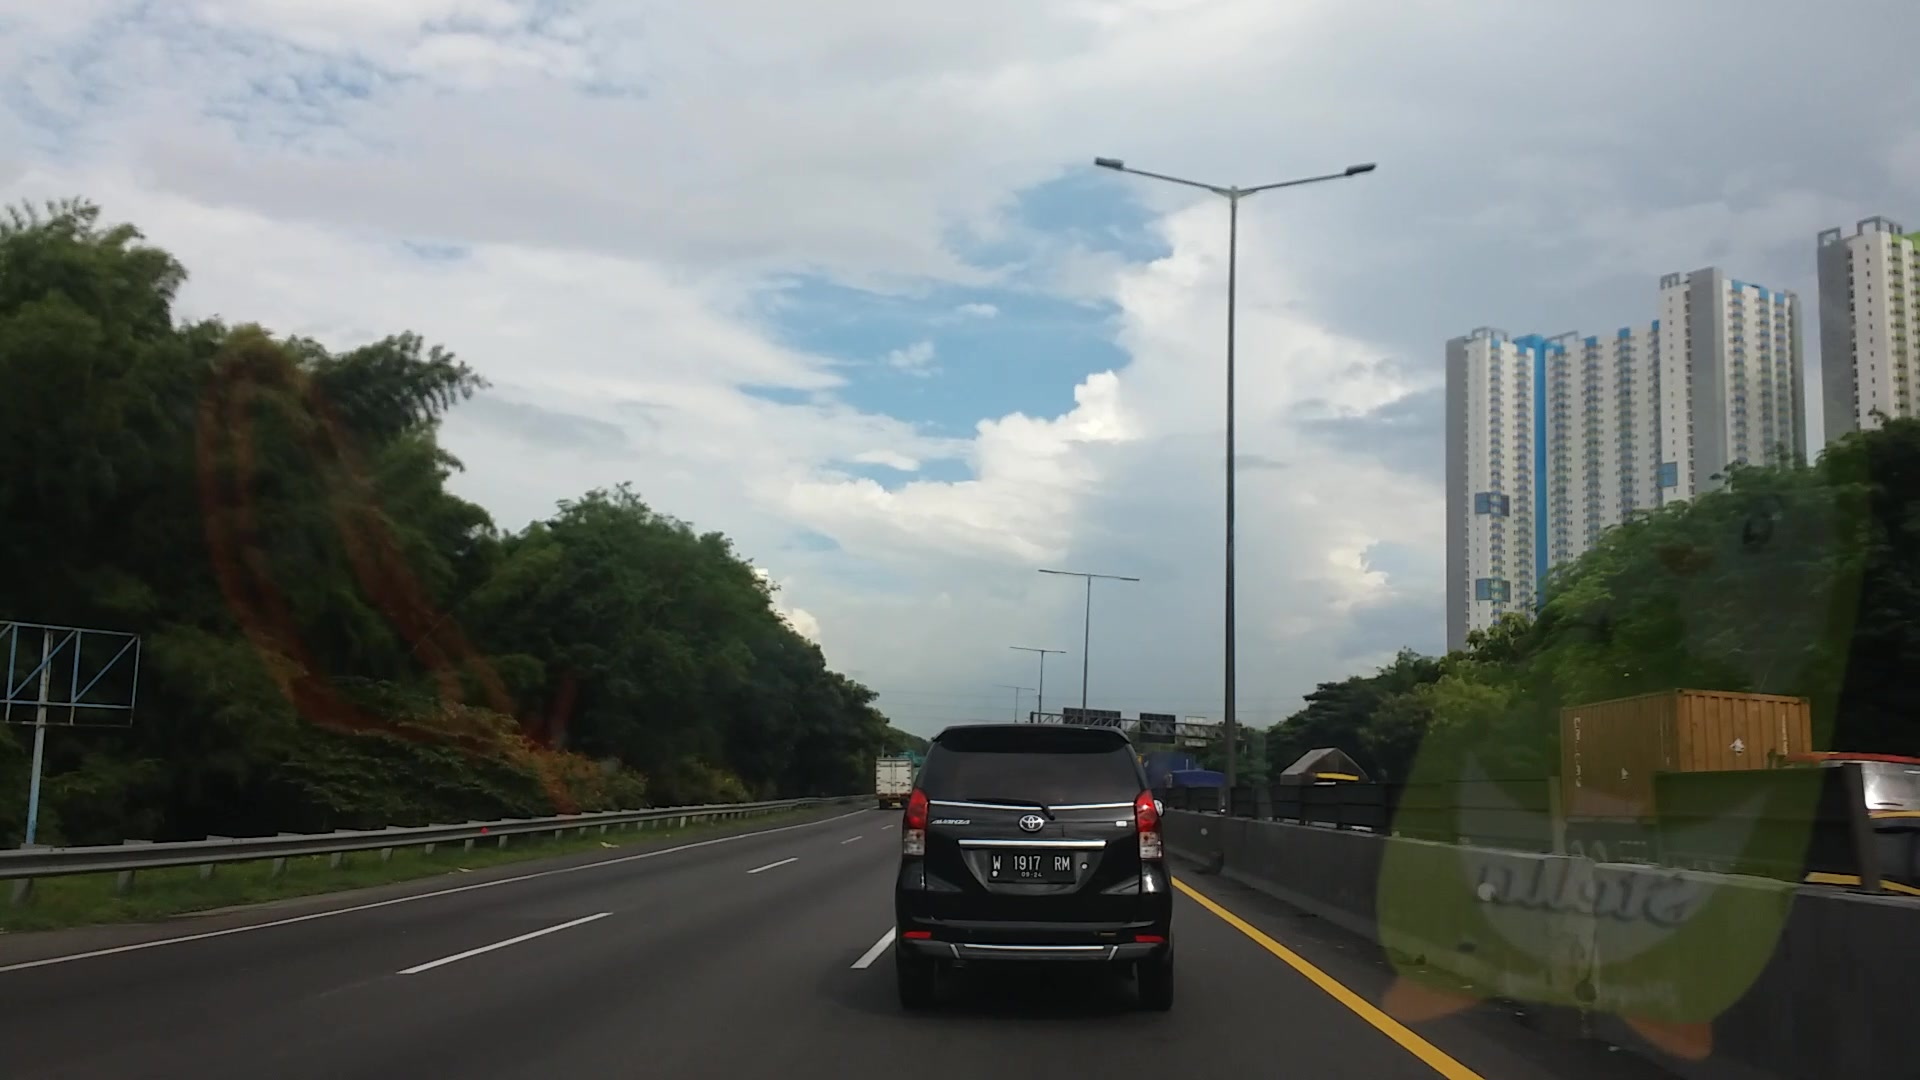plate_positive: (989, 849, 1071, 880)
